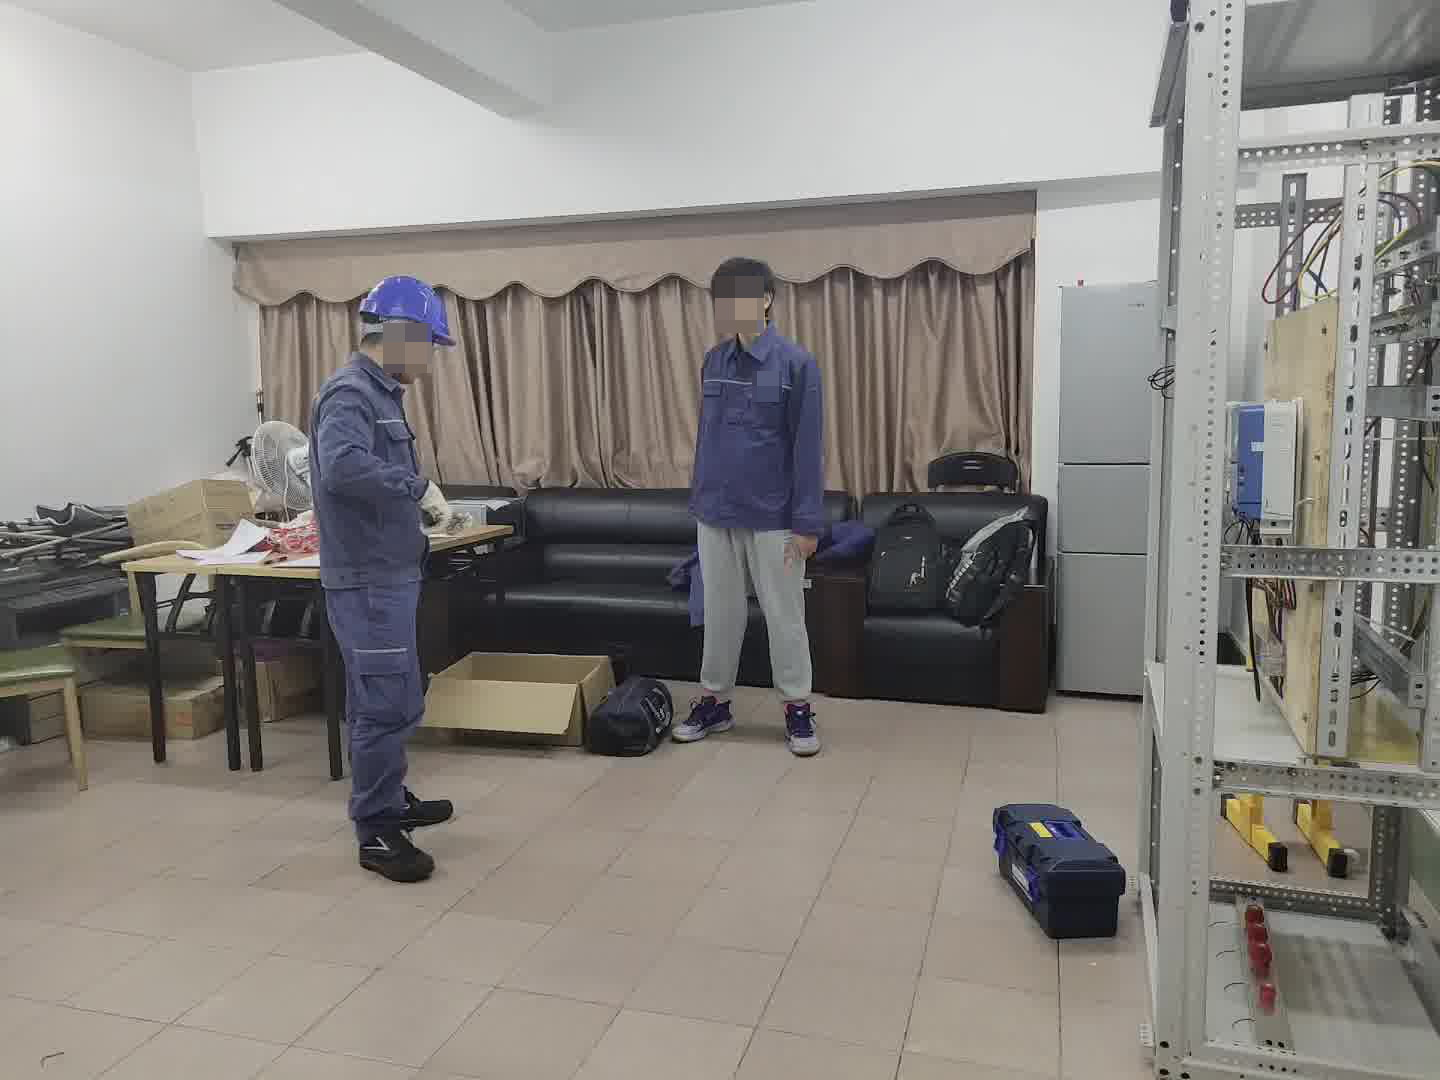downcloth: (694, 530, 812, 692)
downsuit: (320, 587, 433, 831)
halt: (349, 272, 455, 377)
hand: (783, 536, 822, 562)
inear: (378, 317, 421, 367)
person: (302, 270, 465, 878), (682, 250, 845, 685)
unhalt: (706, 255, 780, 339)
upsuit: (308, 353, 431, 578), (690, 330, 829, 521)
wglove: (425, 482, 450, 521)
